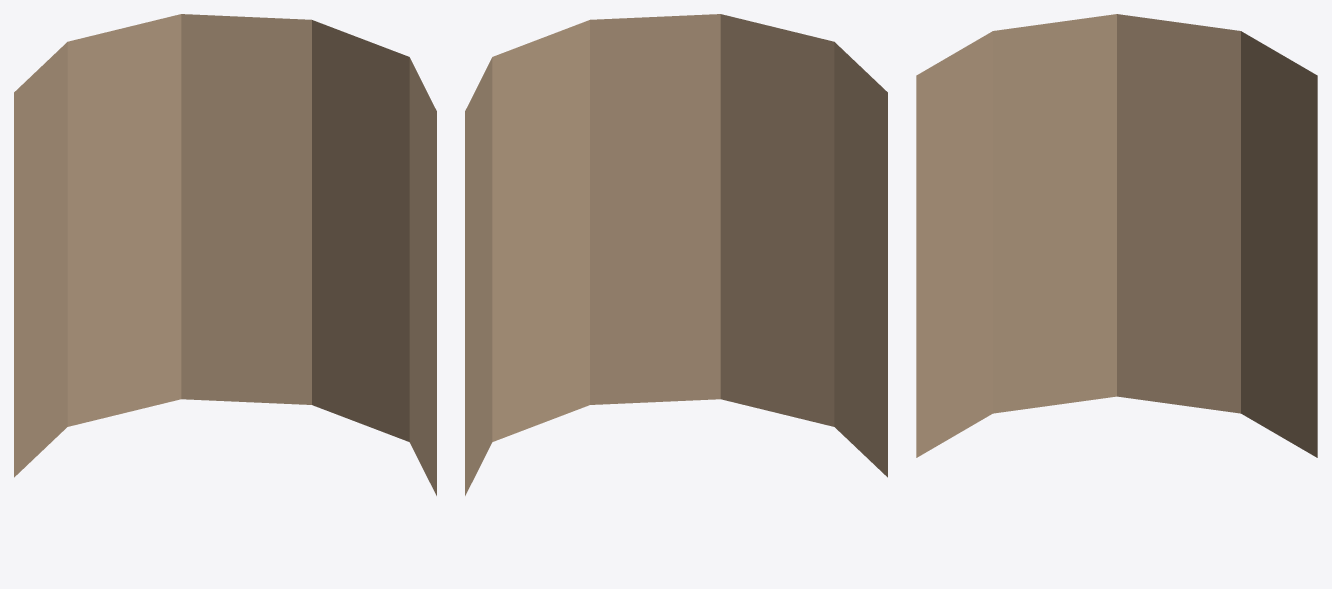
File: table_round_01.glb
The picture shows the model from 3 angles, left to right: view 1: azimuth 30°, elevation 25°; view 2: azimuth 150°, elevation 25°; view 3: azimuth 270°, elevation 25°; orthographic projection.
Parts seen in each view (by area): view 1: 圆桌; view 2: 圆桌; view 3: 圆桌.
Boxes of the visible parts, x1,y1,x2,y2 form: 圆桌: [14, 14, 436, 495]; 圆桌: [465, 14, 887, 495]; 圆桌: [916, 14, 1317, 457].
Bounding box in the file's own units: 1 × 1 × 0.9511.
